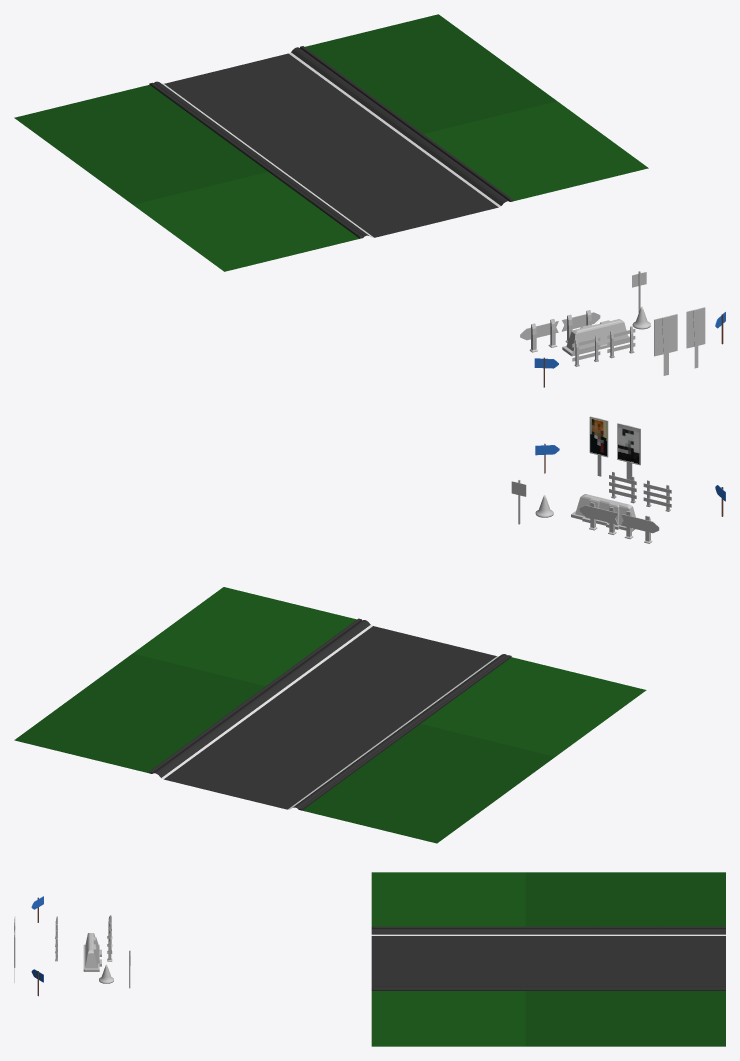
File: propuri.fbx
The picture shows the model from 3 angles, top to bottom: view 1: azimuth 30°, elevation 25°; view 2: azimuth 150°, elevation 25°; view 3: azimuth 270°, elevation 25°; orthographic projection. The views are drawn at different scales.
Visible parts, largest first — view 1: Stradatyle1.005, Cube.014, Cube.018, Cube.017, Cube.011; view 2: Stradatyle1.005, Cube.018, Cube.014, Cube.017; view 3: Stradatyle1.005, Cube.014.
Boxes of the visible parts, x1,y1,x2,y2 form: Stradatyle1.005: (14,14,648,271); Cube.014: (562,319,629,356); Cube.018: (654,314,677,375); Cube.017: (686,307,705,368); Cube.011: (520,319,558,352); Stradatyle1.005: (14,587,646,843); Cube.018: (617,423,640,483); Cube.014: (571,494,635,531); Cube.017: (589,416,608,476); Stradatyle1.005: (371,872,725,1046); Cube.014: (83,933,101,971).
Size of the model in its own units: 34.88 by 4.61 by 60.15.
